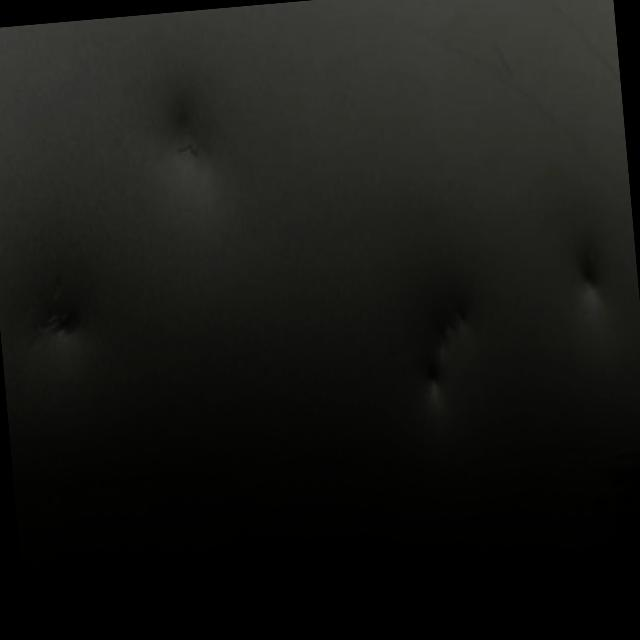dent: (402, 253, 534, 445), (41, 226, 138, 350), (542, 196, 640, 306), (156, 94, 245, 210)
